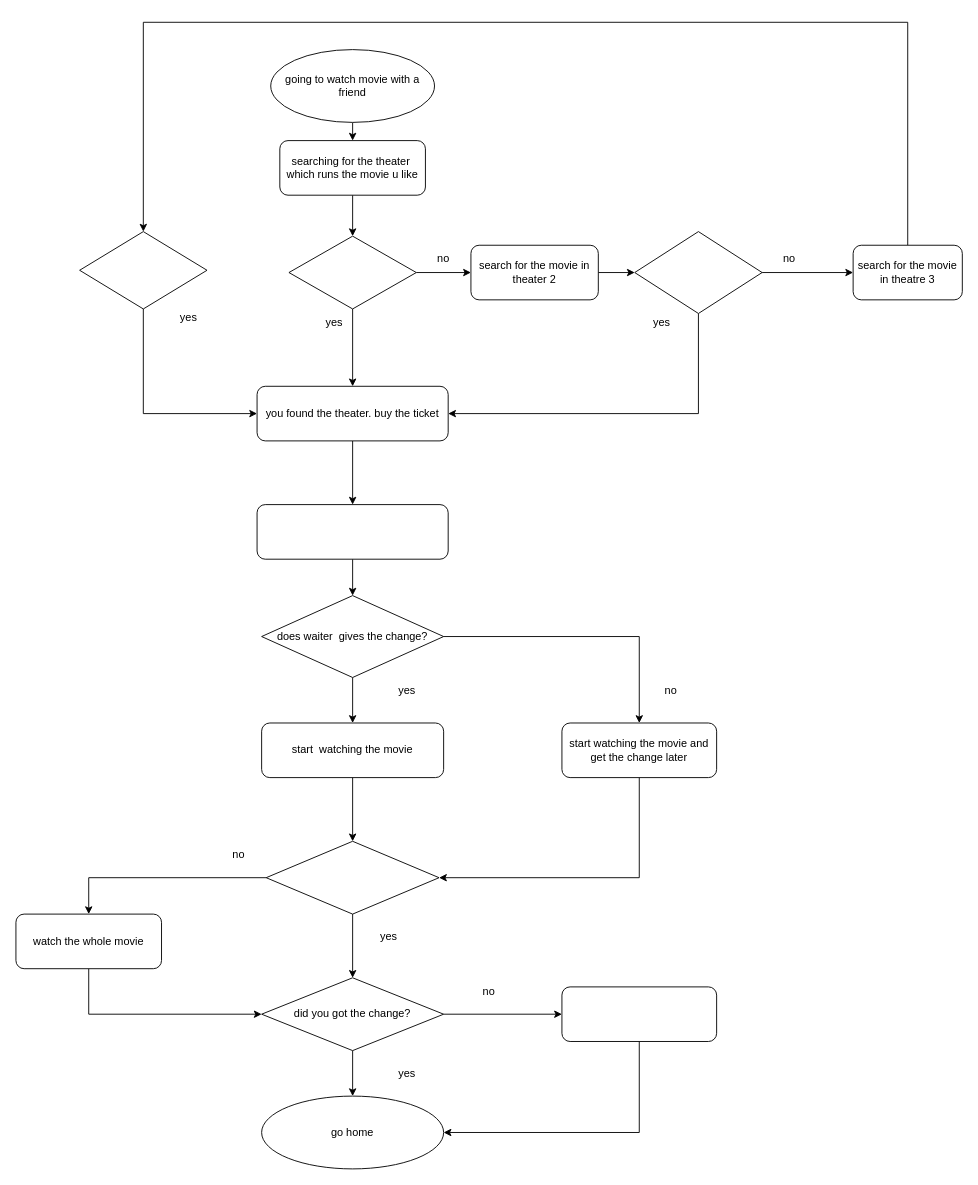
The diagram is 978 pixels wide and 1185 high, and some of its shapes have lost their labels. The shapes that lost their labels are listed below. From the top down, each one's centre as x and y in pixels, then its label:
[143,270]: is that movie available in theatre 3?
[352,272]: is that movie avlailable in theatre 1?
[698,272]: is that movie available in theatre 2?
[352,531]: buy popcorn
[352,877]: is the movie boring?
[639,1013]: get the change from the waiter
